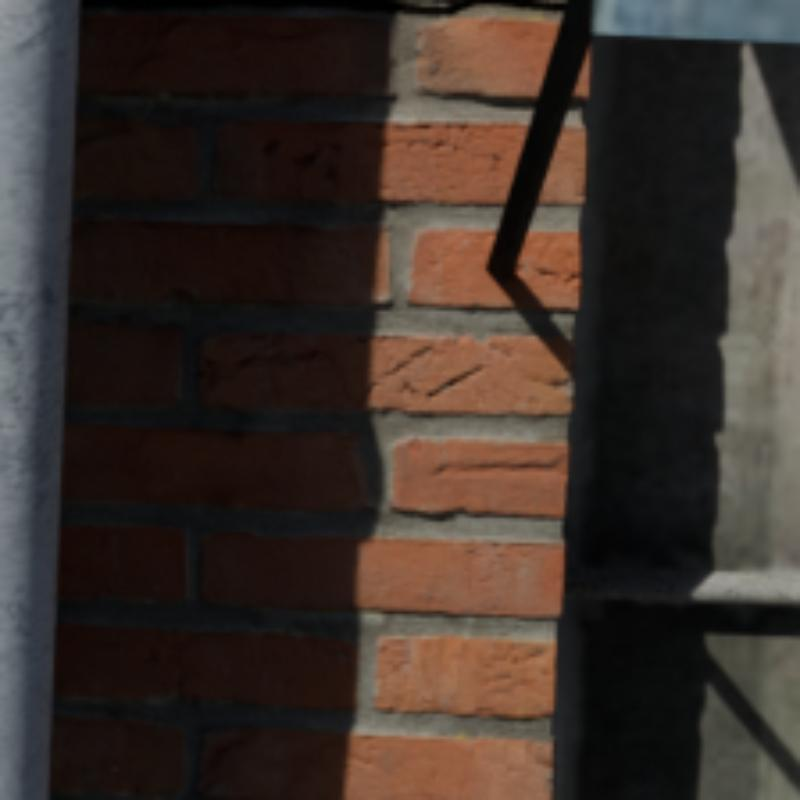crack: (339, 0, 474, 11), (481, 1, 564, 7)
